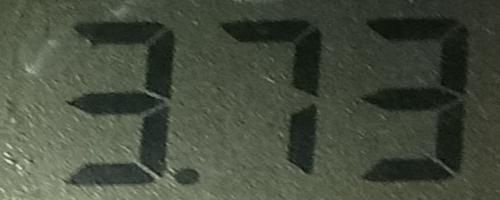.: (172, 165, 205, 190)
